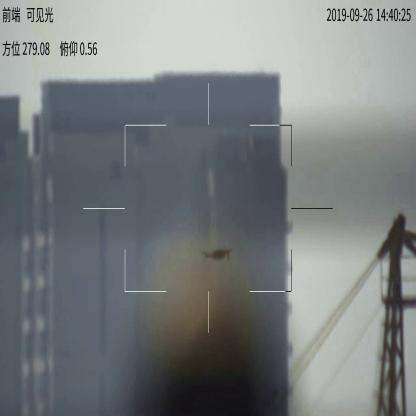uav: (201, 245, 233, 264)
